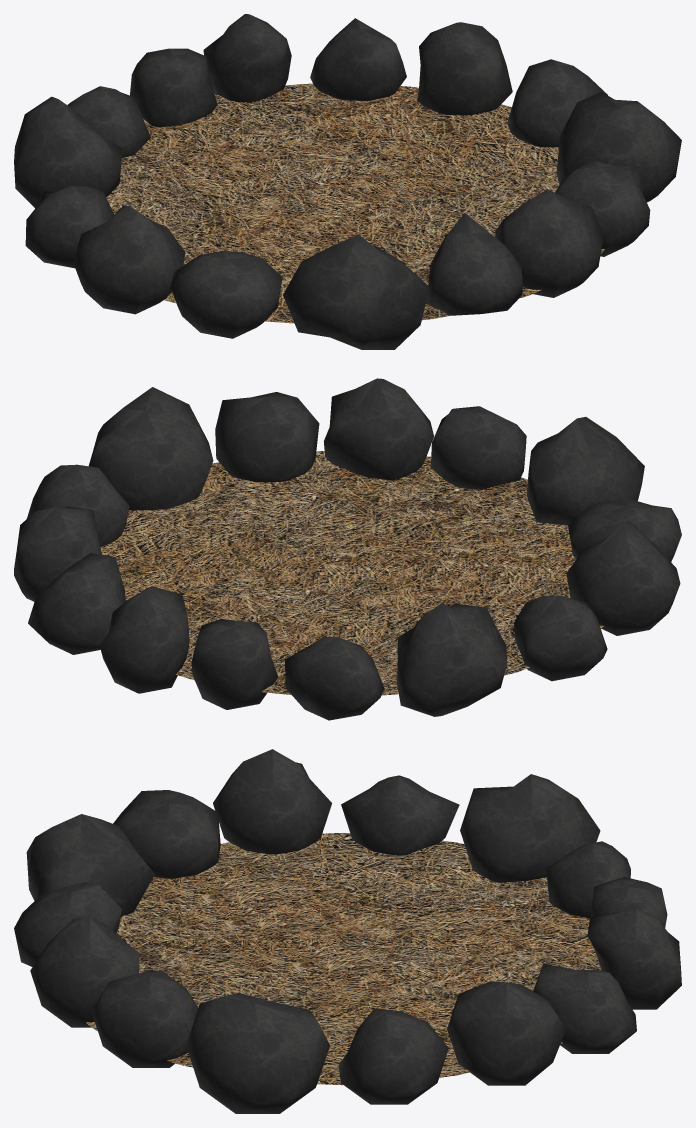
Rendered from Amazonie_Feu2.fbx.
3 renders of one model, top to bottom at view 1: azimuth 30°, elevation 25°; view 2: azimuth 150°, elevation 25°; view 3: azimuth 270°, elevation 25°, orthographic. The views are drawn at different scales.
Visible parts, largest first — view 1: Stones, Twigs; view 2: Stones, Twigs; view 3: Stones, Twigs.
Part boxes in pixels (x1,y1,x2,y2): Stones: (14, 14, 681, 349); Twigs: (106, 83, 605, 323); Stones: (14, 378, 681, 720); Twigs: (100, 451, 603, 695); Stones: (14, 749, 681, 1113); Twigs: (85, 833, 601, 1085).
Bounding box in the file's own units: 1170 × 229 × 1119.
